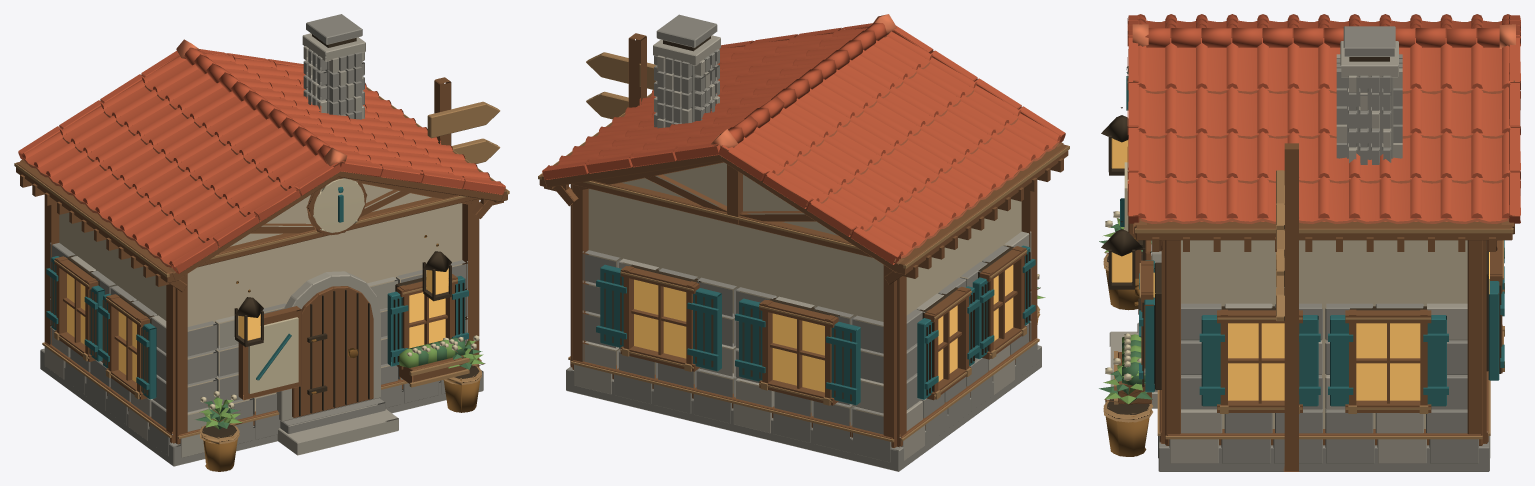
3 views of the same model, side by side, from view 1: azimuth 30°, elevation 25°; view 2: azimuth 150°, elevation 25°; view 3: azimuth 270°, elevation 25° (orthographic). The views are drawn at different scales.
Parts seen in each view (by area): view 1: alpine_junction_hub_geometry, alpine_junction_hub_geometry ceramic; view 2: alpine_junction_hub_geometry, alpine_junction_hub_geometry ceramic; view 3: alpine_junction_hub_geometry, alpine_junction_hub_geometry ceramic.
Part boxes in pixels (x1,y1,x2,y2): alpine_junction_hub_geometry: [14, 14, 509, 471]; alpine_junction_hub_geometry ceramic: [18, 39, 505, 273]; alpine_junction_hub_geometry: [538, 14, 1069, 471]; alpine_junction_hub_geometry ceramic: [542, 14, 1065, 264]; alpine_junction_hub_geometry: [1099, 22, 1514, 471]; alpine_junction_hub_geometry ceramic: [1127, 14, 1520, 223].
Bounding box in the file's own units: 1.04 × 0.8093 × 0.7822.
